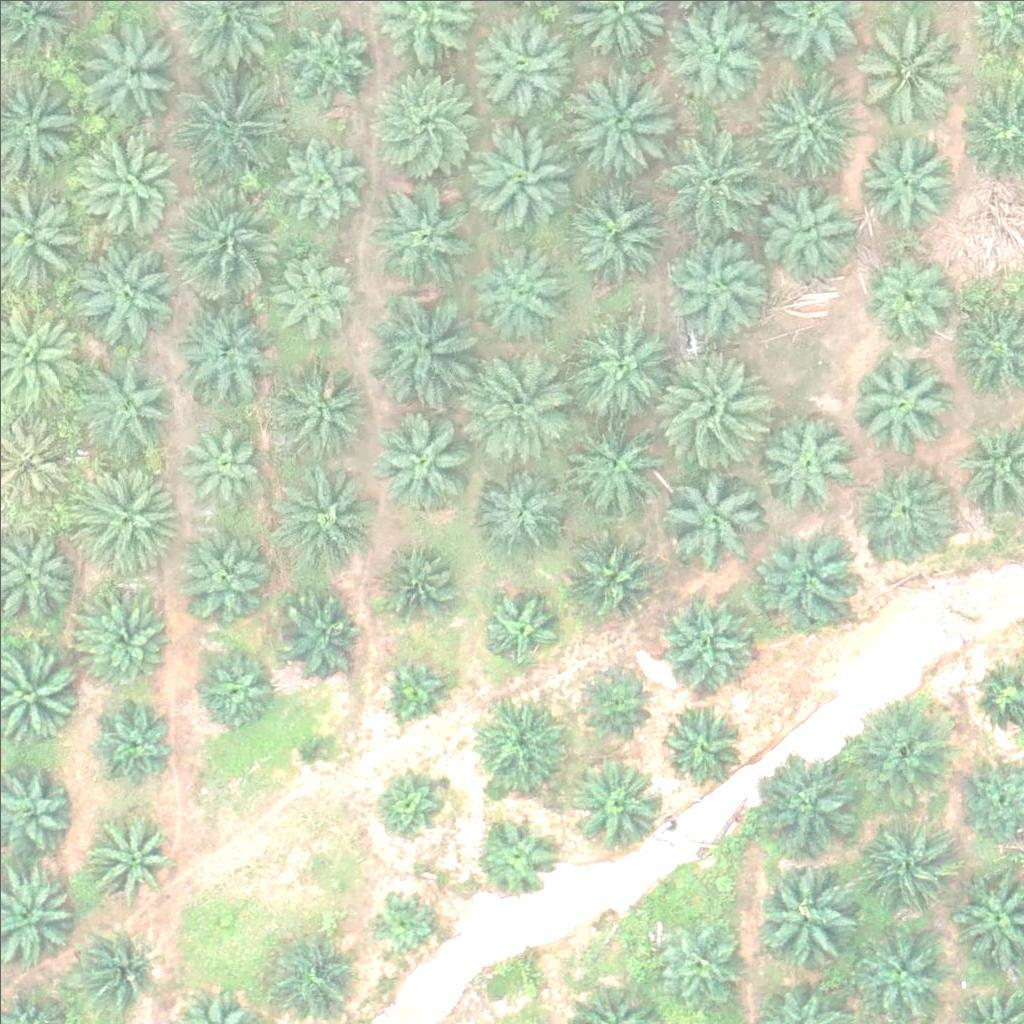Kelapa_Sawit: (465, 350, 578, 464), (846, 687, 959, 800), (757, 866, 870, 979), (373, 73, 486, 186), (466, 116, 579, 229), (755, 72, 868, 185), (173, 189, 285, 303), (176, 71, 288, 185), (369, 294, 481, 408), (853, 806, 965, 919), (754, 743, 866, 856), (66, 460, 178, 573), (561, 67, 673, 180), (657, 122, 769, 235), (663, 232, 775, 345), (656, 352, 768, 465), (847, 9, 959, 122), (474, 685, 574, 786), (72, 586, 172, 687), (171, 518, 271, 619), (373, 405, 473, 506), (661, 468, 761, 569), (763, 529, 863, 630), (855, 464, 955, 565), (74, 351, 174, 452), (76, 232, 176, 333), (176, 294, 276, 395), (279, 14, 379, 115), (471, 15, 571, 116), (472, 244, 572, 345), (573, 314, 673, 415), (569, 181, 669, 282), (758, 177, 858, 278), (853, 129, 953, 230), (850, 354, 950, 455), (262, 921, 362, 1021), (273, 464, 373, 564), (658, 583, 758, 683), (759, 414, 859, 514), (74, 125, 174, 225), (80, 19, 180, 119), (266, 134, 366, 234), (270, 360, 370, 460), (375, 183, 475, 283), (470, 463, 570, 563), (563, 408, 663, 508), (653, 921, 741, 1009), (87, 698, 175, 786), (180, 411, 268, 499), (274, 593, 362, 681), (266, 251, 354, 339), (82, 813, 169, 902), (69, 923, 156, 1011), (470, 810, 557, 898), (571, 530, 658, 618), (375, 529, 462, 617), (191, 652, 278, 740), (576, 761, 663, 849), (658, 698, 745, 786), (863, 255, 950, 343), (485, 588, 560, 664), (379, 648, 454, 724), (373, 765, 448, 841), (362, 885, 437, 961), (575, 658, 650, 733), (287, 730, 337, 780)
